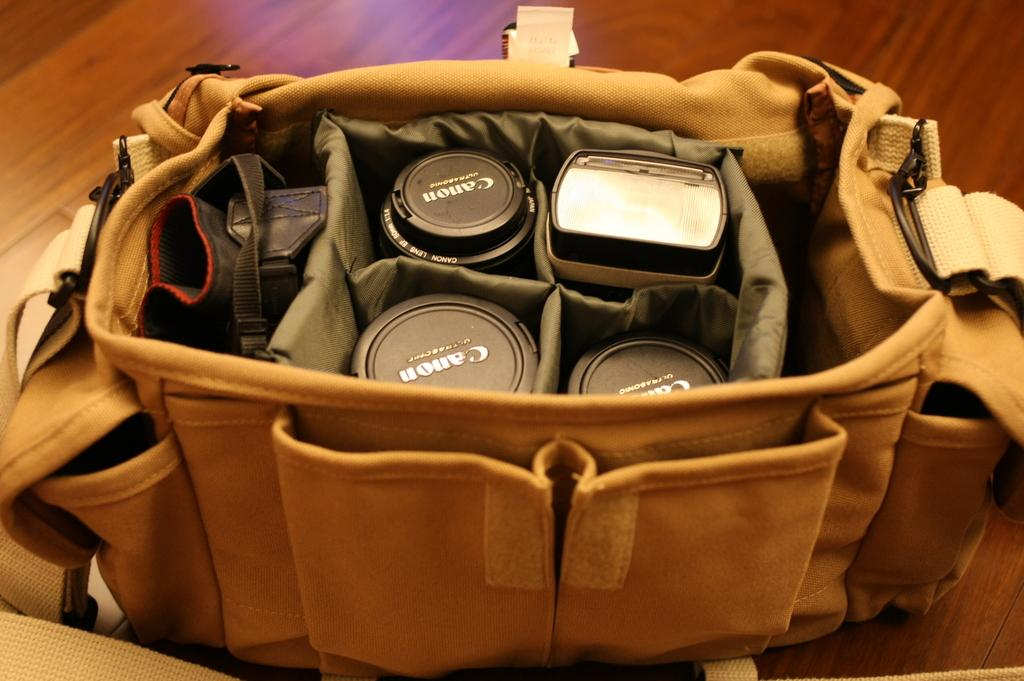Luggage-and-bags: (0, 2, 1023, 680)
